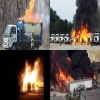fire: (52, 62, 74, 89), (22, 59, 39, 91), (18, 0, 41, 22), (70, 22, 92, 45), (93, 72, 97, 80)
